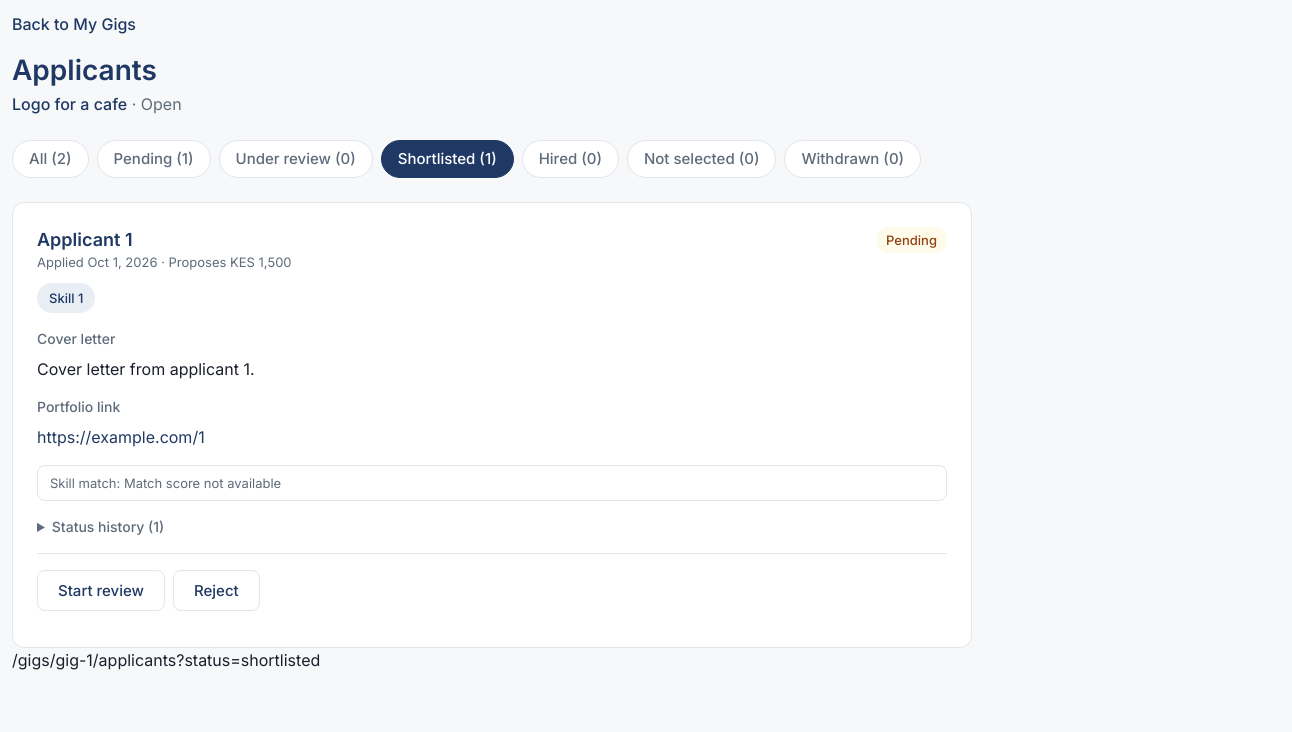
Test: GigApplicants page › filters by status through the URL
The width and height of the screenshot is (1292, 732).
Expected: the link "Applicant 1" is shown, [37,227,132,253]
Click the button "Pending (1)": (154, 159) [96,140,210,178]
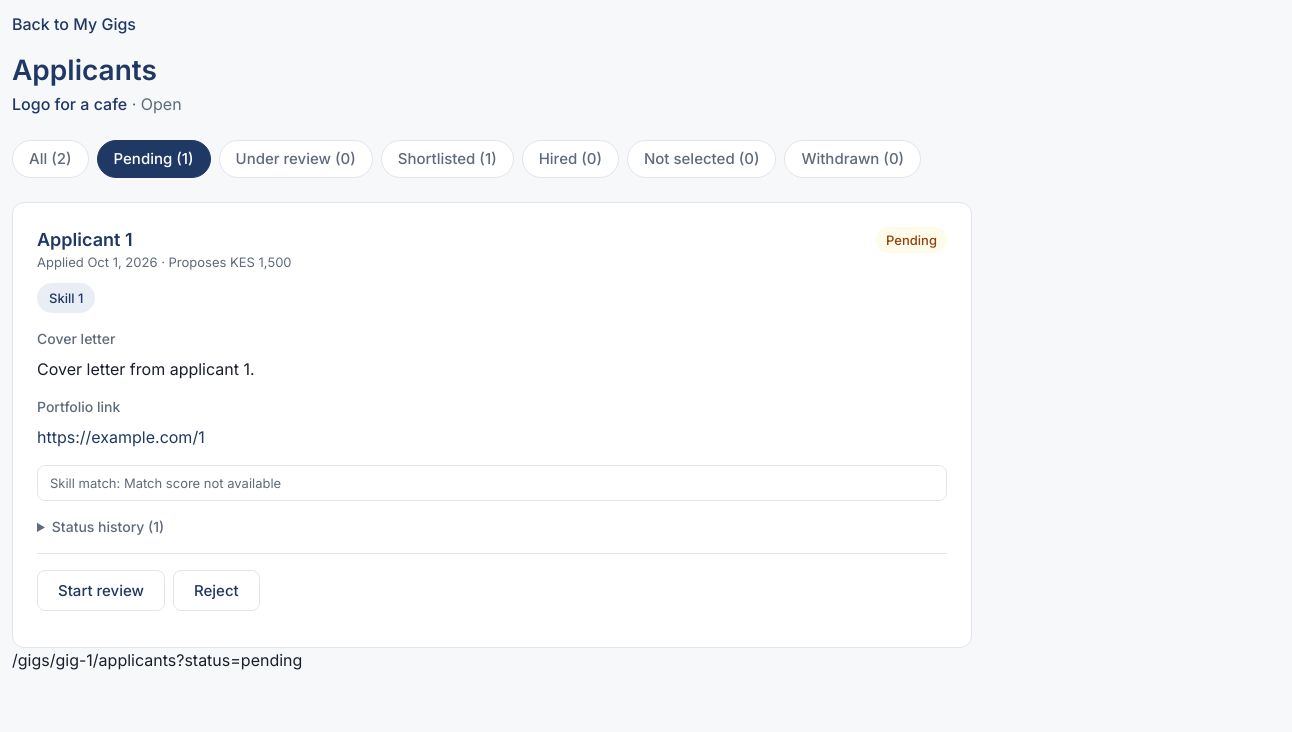
Result: the text with test id "location" reads "/gigs/gig-1/applicants?status=pending" at [12,650,302,670]
